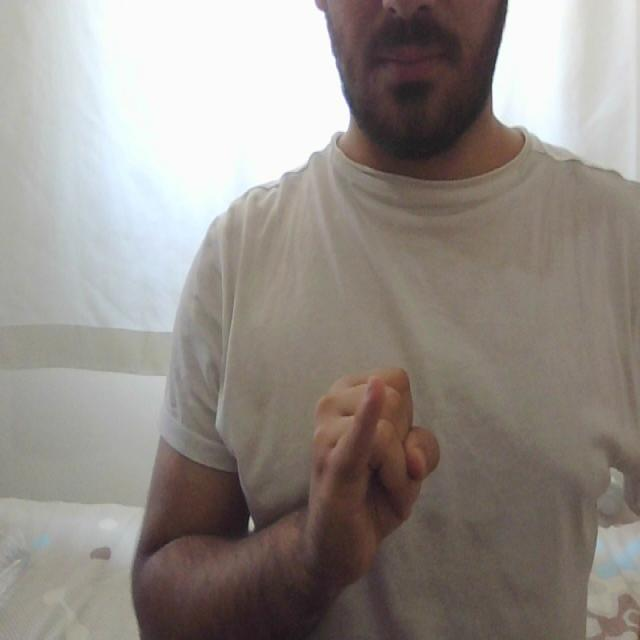kotu: (289, 351, 442, 544)
